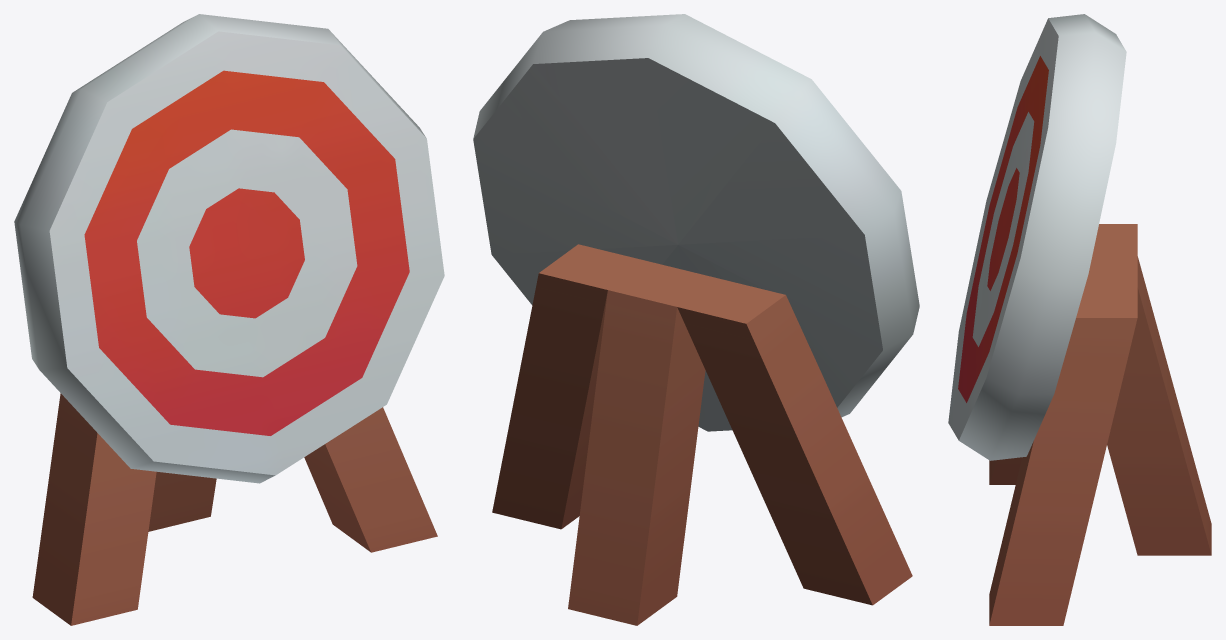
The model's file is target.glb.
3 views of the same model, side by side, from view 1: azimuth 30°, elevation 25°; view 2: azimuth 150°, elevation 25°; view 3: azimuth 270°, elevation 25° (orthographic). The views are drawn at different scales.
Parts seen in each view (by area): view 1: target; view 2: target; view 3: target.
Boxes of the visible parts, <box> form: target: <box>14,14,444,625</box>; target: <box>473,14,919,625</box>; target: <box>948,14,1211,625</box>.
Size of the model in its own units: 0.2393 by 0.3018 by 0.1421.
Materials: 1 (1 with a texture image).
